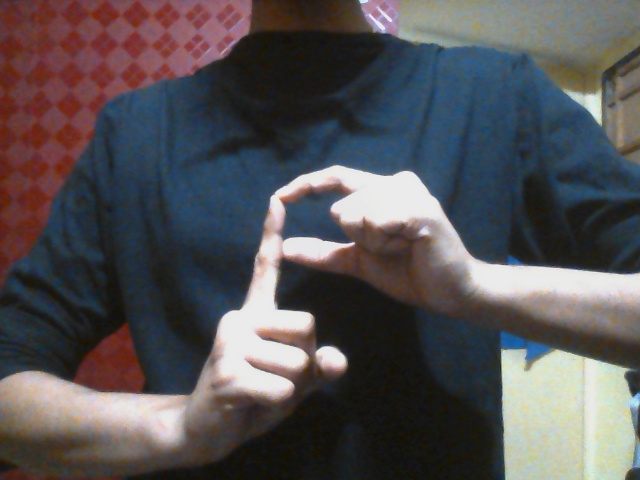P: (190, 160, 453, 454)
